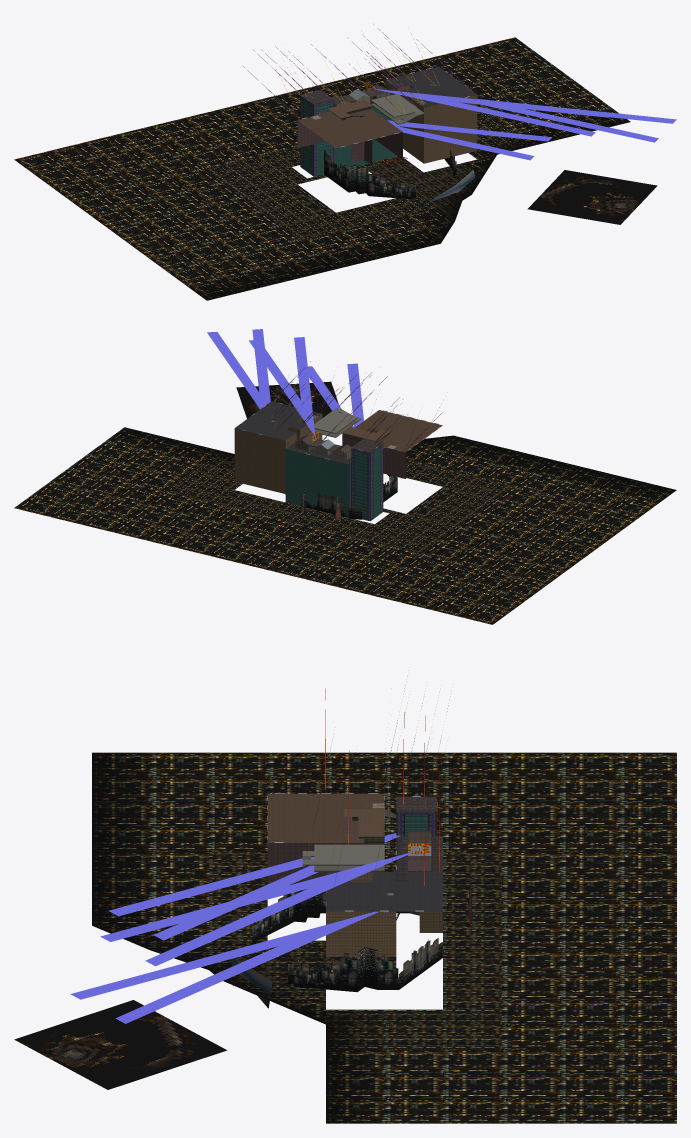
File: new_york.glb
3 renders of one model, top to bottom at view 1: azimuth 30°, elevation 25°; view 2: azimuth 150°, elevation 25°; view 3: azimuth 270°, elevation 25°, orthographic. The views are drawn at different scales.
Visible parts, largest first — view 1: new_york_2, new_york; view 2: new_york_2, new_york; view 3: new_york_2, new_york.
Boxes of the visible parts, x1,y1,x2,y2 form: new_york_2: (14, 24, 657, 300); new_york: (279, 34, 676, 204); new_york_2: (14, 361, 676, 624); new_york: (207, 329, 442, 520); new_york_2: (14, 685, 676, 1123); new_york: (70, 784, 443, 1023).
Size of what is drawn, in the model's own units: 938 by 264 by 708.
258 materials, 257 textured.
